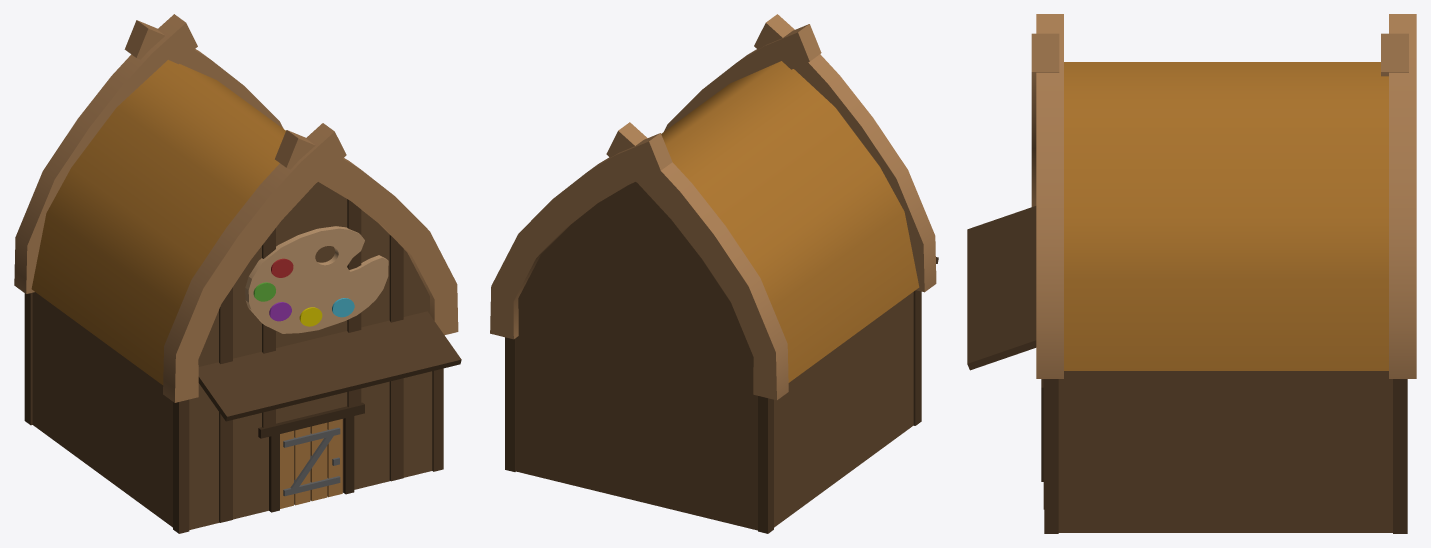
Rendered from Painter.fbx.
3 renders of one model, left to right at view 1: azimuth 30°, elevation 25°; view 2: azimuth 150°, elevation 25°; view 3: azimuth 270°, elevation 25°, orthographic. The views are drawn at different scales.
Visible parts, largest first — view 1: Painter; view 2: Painter; view 3: Painter.
Boxes of the visible parts, box(x1,y1,x2,y2) form: Painter: box(14, 14, 461, 533); Painter: box(490, 14, 938, 533); Painter: box(967, 14, 1416, 533).
Size of the model in its own units: 2.8 by 3.47 by 3.25.
